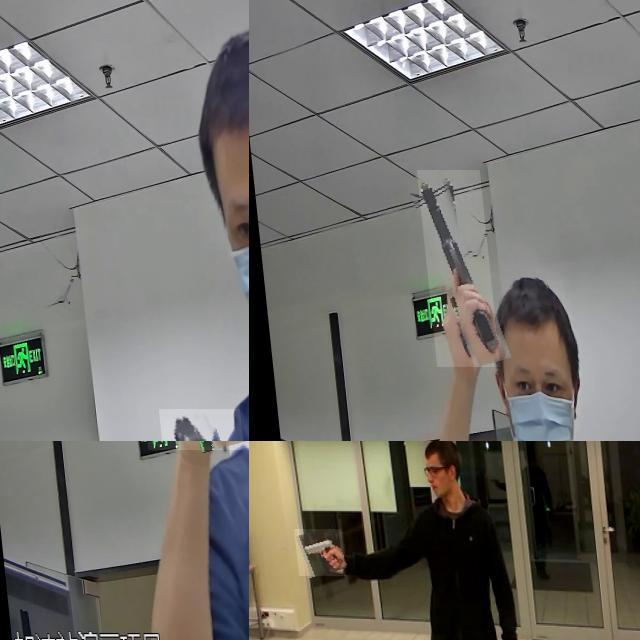gun-knife-thesis - v11 Yolov5 augmented: (116, 441, 249, 581), (412, 170, 491, 367), (287, 529, 338, 576)
